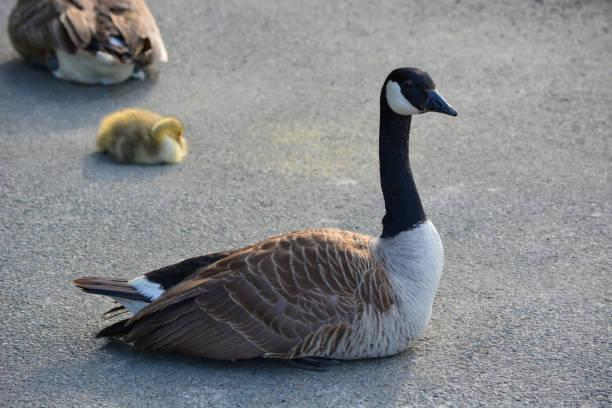Canadian-Goose: (103, 68, 458, 357), (6, 0, 165, 85), (96, 108, 186, 166)
